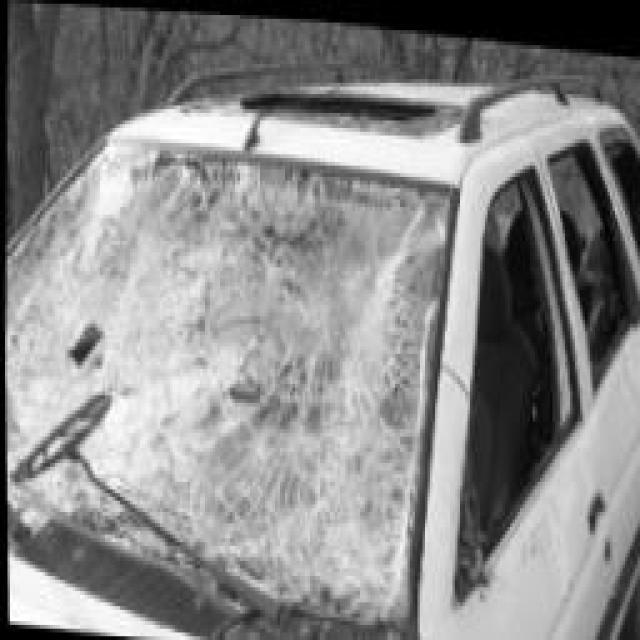Windshield: (4, 137, 446, 612)
